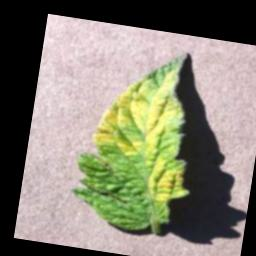Leaf_Mold: (81, 42, 210, 226)
